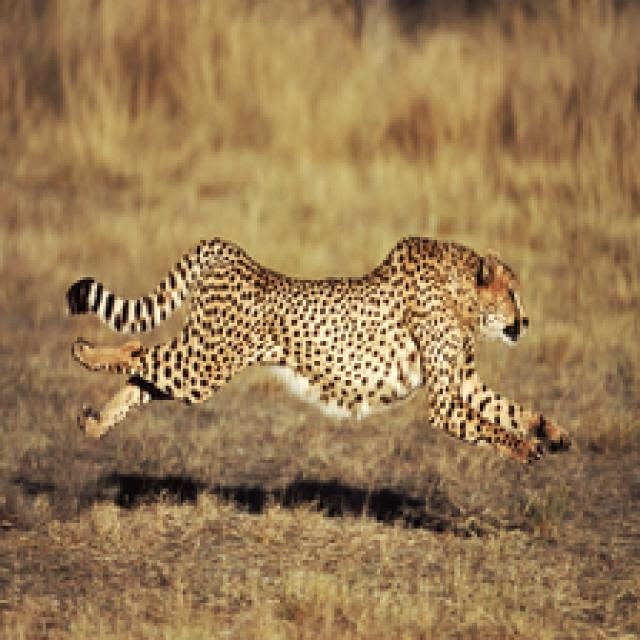cheetah: (48, 219, 554, 468)
